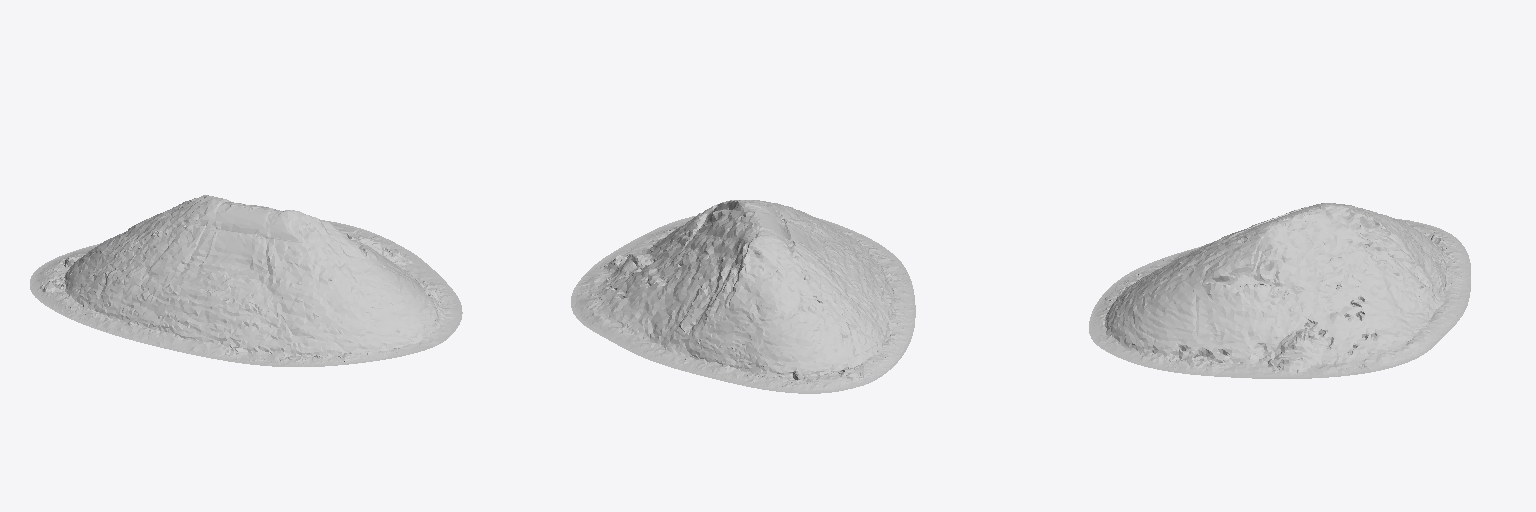
Rendered from flourpile.obj.
The picture shows the model from 3 angles: view 1: azimuth 30°, elevation 25°; view 2: azimuth 150°, elevation 25°; view 3: azimuth 270°, elevation 25°; orthographic projection.
Parts seen in each view (by area): view 1: hromada_pisek_01_30k_Untitled; view 2: hromada_pisek_01_30k_Untitled; view 3: hromada_pisek_01_30k_Untitled.
Part boxes in pixels (x1,y1,x2,y2): hromada_pisek_01_30k_Untitled: (30, 195, 462, 366); hromada_pisek_01_30k_Untitled: (571, 200, 915, 393); hromada_pisek_01_30k_Untitled: (1089, 203, 1470, 378).
Size of the model in its own units: 0.8609 by 0.2138 by 0.8654.